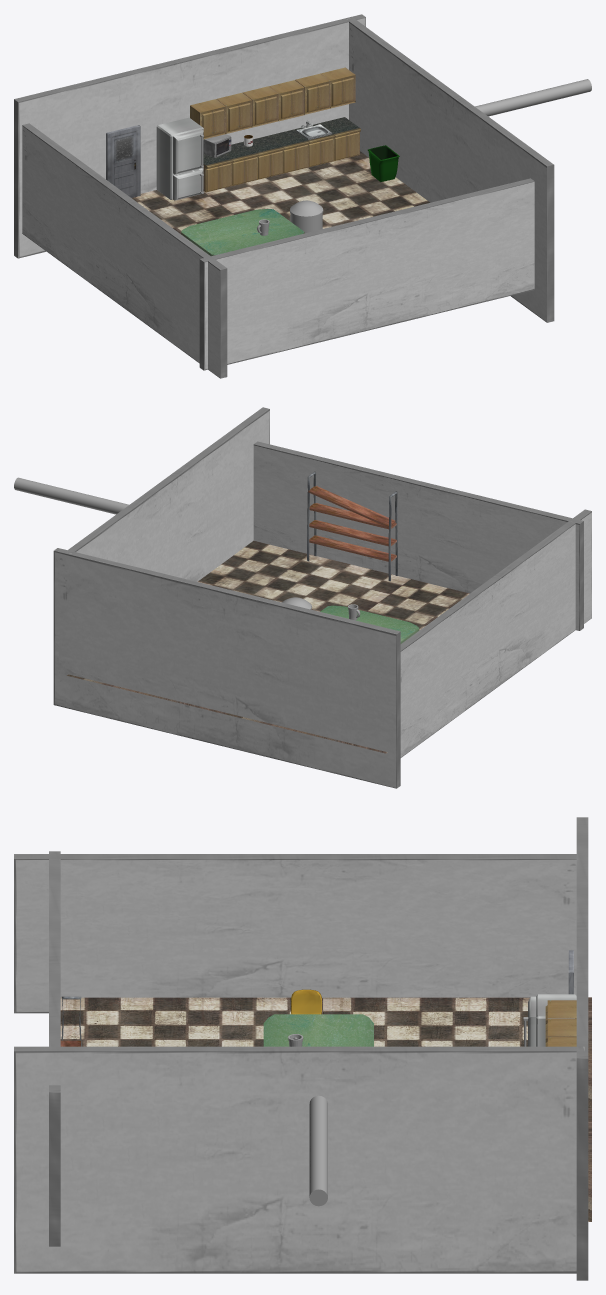
Rendered from Motgman kitchen scene 1.fbx.
The picture shows the model from 3 angles, top to bottom: view 1: azimuth 30°, elevation 25°; view 2: azimuth 150°, elevation 25°; view 3: azimuth 270°, elevation 25°; orthographic projection. The views are drawn at different scales.
Parts seen in each view (by area): view 1: pCube16, pCube15, pCube9, pCube17, pCube11, Koelkast, tafel1, pCube10, deur1, pCylinder10, Aanrecht6, Aanrecht (+13 smaller); view 2: pCube9, pCube16, pCube15, pCube17, pCube12, pCube13, pCylinder10, tafel1, plank27, plank24, plank25, plank26 (+1 smaller); view 3: pCube17, pCube15, pCube13, pCube10, pCube9, pCube16, tafel1, pCylinder10, Koelkast, pCube2, pCube20, pCube19.
Boxes of the visible parts, <box> form: pCube16: <box>199,178,534,370</box>; pCube15: <box>22,123,227,378</box>; pCube9: <box>14,14,365,258</box>; pCube17: <box>346,17,554,322</box>; pCube11: <box>203,151,430,228</box>; Koelkast: <box>156,117,203,200</box>; tafel1: <box>181,209,304,256</box>; pCube10: <box>132,190,233,233</box>; deur1: <box>106,125,140,197</box>; pCylinder10: <box>475,79,591,116</box>; Aanrecht6: <box>319,117,360,160</box>; Aanrecht: <box>268,129,309,173</box>; pCube9: <box>53,548,400,788</box>; pCube16: <box>253,441,583,630</box>; pCube15: <box>400,509,591,757</box>; pCube17: <box>65,407,269,581</box>; pCube12: <box>197,540,410,611</box>; pCube13: <box>367,579,469,630</box>; pCylinder10: <box>14,477,129,514</box>; tafel1: <box>320,605,419,643</box>; plank27: <box>308,486,395,527</box>; plank24: <box>309,535,396,561</box>; plank25: <box>309,520,396,546</box>; plank26: <box>309,503,396,529</box>; pCube17: <box>14,1046,584,1273</box>; pCube15: <box>14,854,576,1013</box>; pCube13: <box>60,997,322,1046</box>; pCube10: <box>323,997,591,1108</box>; pCube9: <box>576,817,588,1280</box>; pCube16: <box>49,851,60,1246</box>; tafel1: <box>263,1014,373,1046</box>; pCylinder10: <box>309,1095,327,1206</box>; Koelkast: <box>528,994,576,1046</box>; pCube2: <box>291,989,321,1014</box>; pCube20: <box>545,1000,576,1024</box>; pCube19: <box>545,1018,576,1042</box>.
Size of the model in its own units: 34.19 by 10.66 by 25.12.
17 materials, 16 textured.
